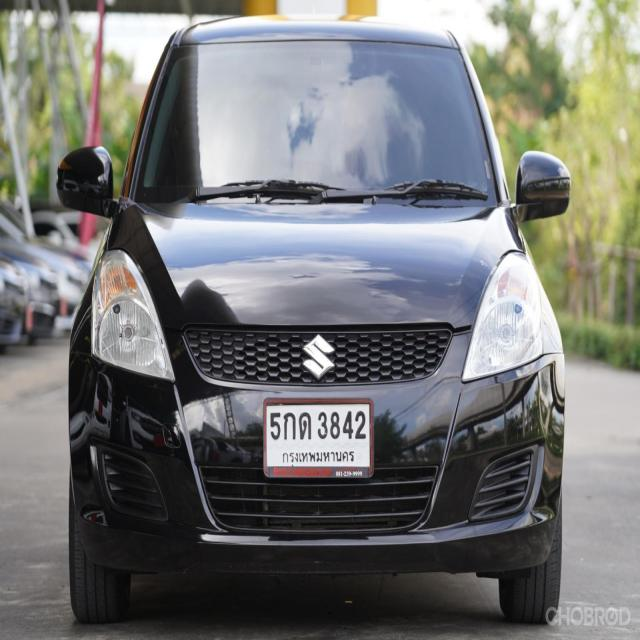license_plate: (262, 395, 376, 480)
